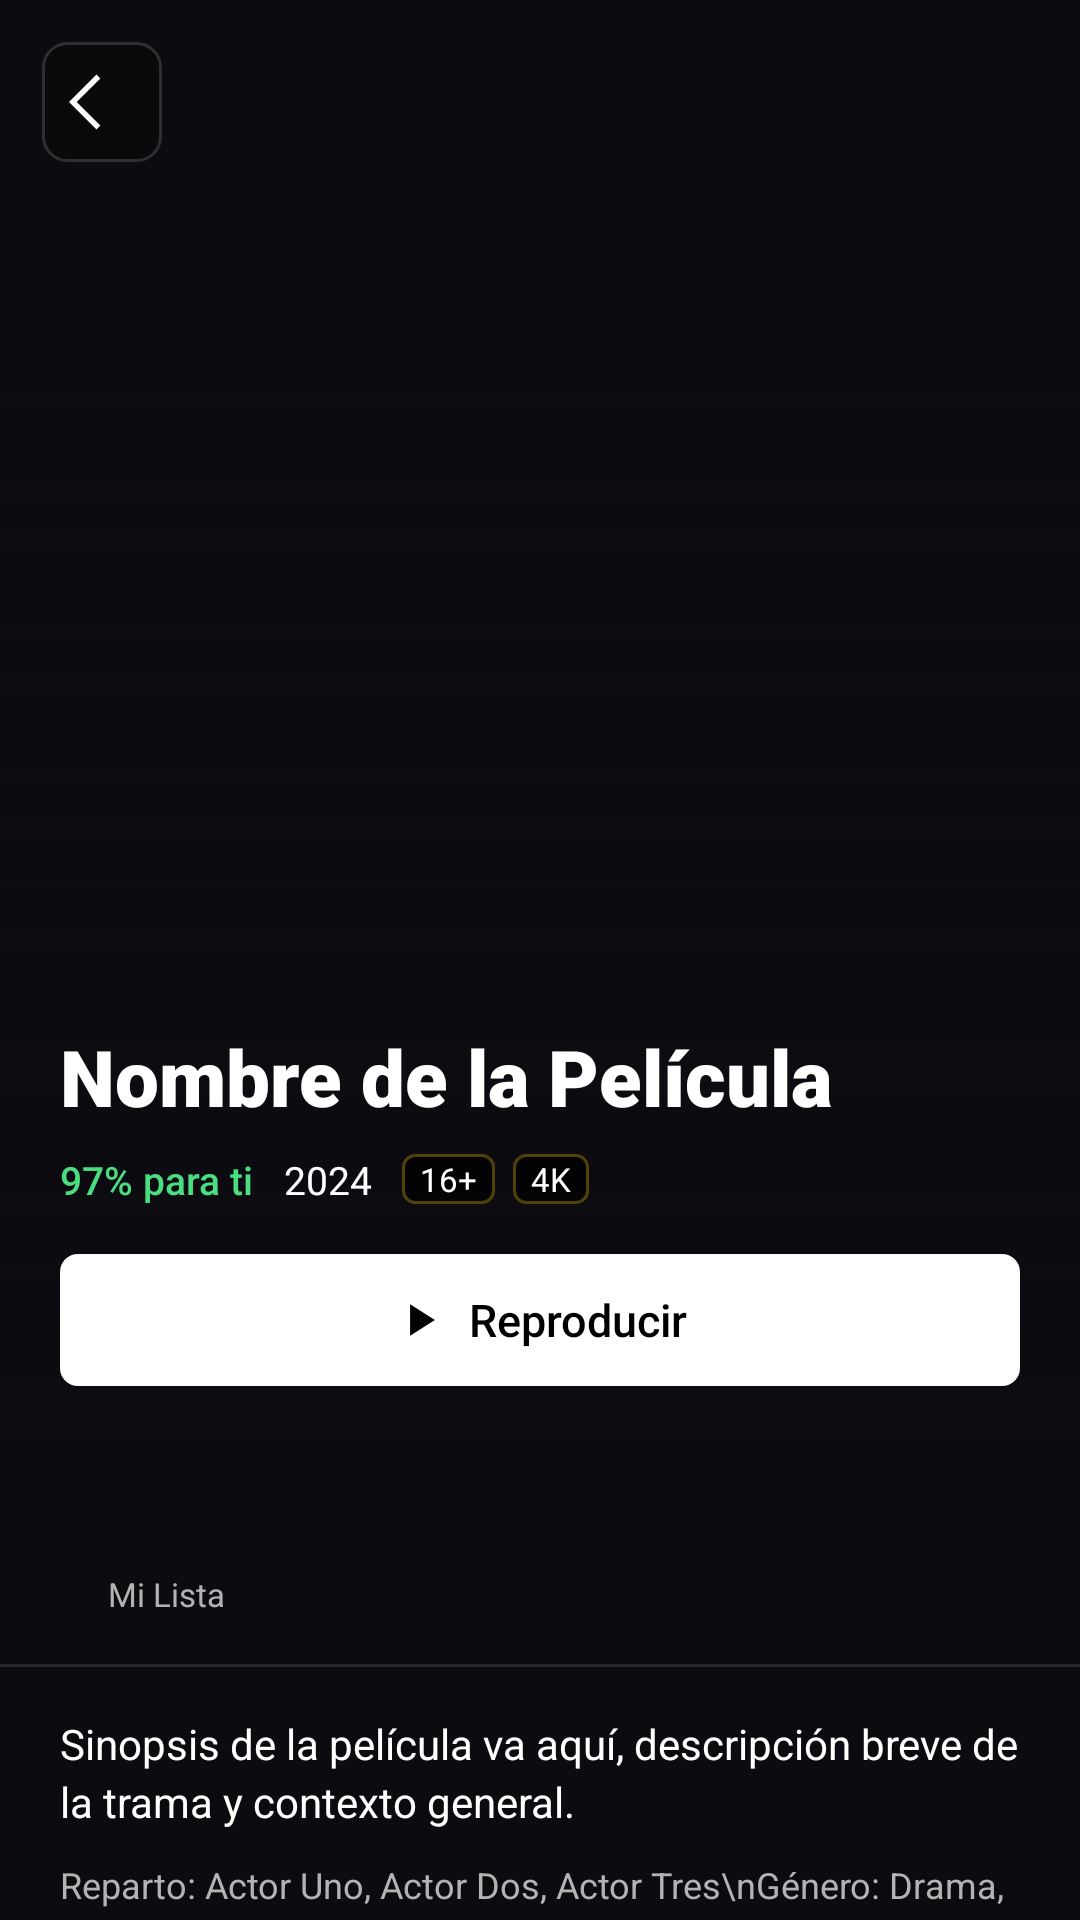

Point at icon controls on the screen. Image size 1080 x 1920, points as point (x, y).
arrow back: point (102, 102)
play: point (422, 1320)
